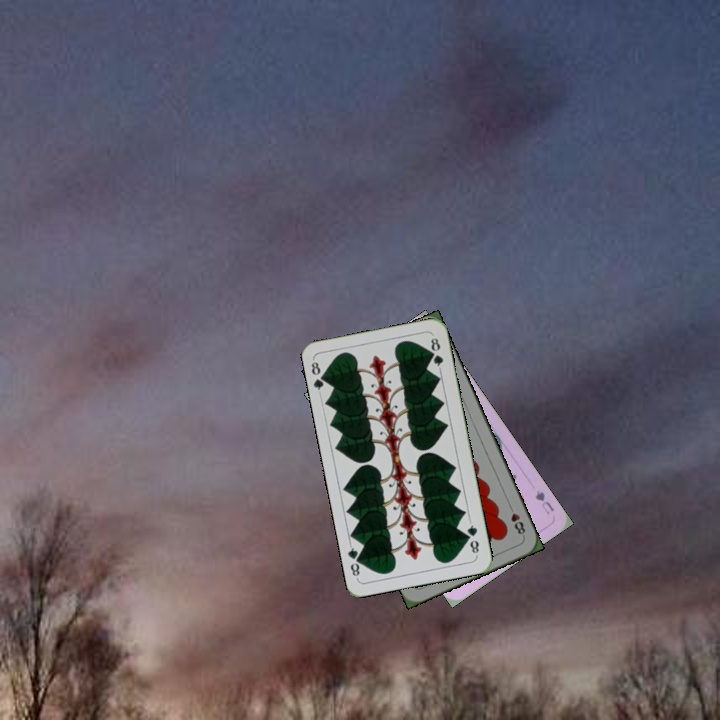G8: (307, 356, 330, 396), (462, 518, 482, 558)
GU: (531, 486, 557, 517)
H8: (505, 501, 528, 539)
